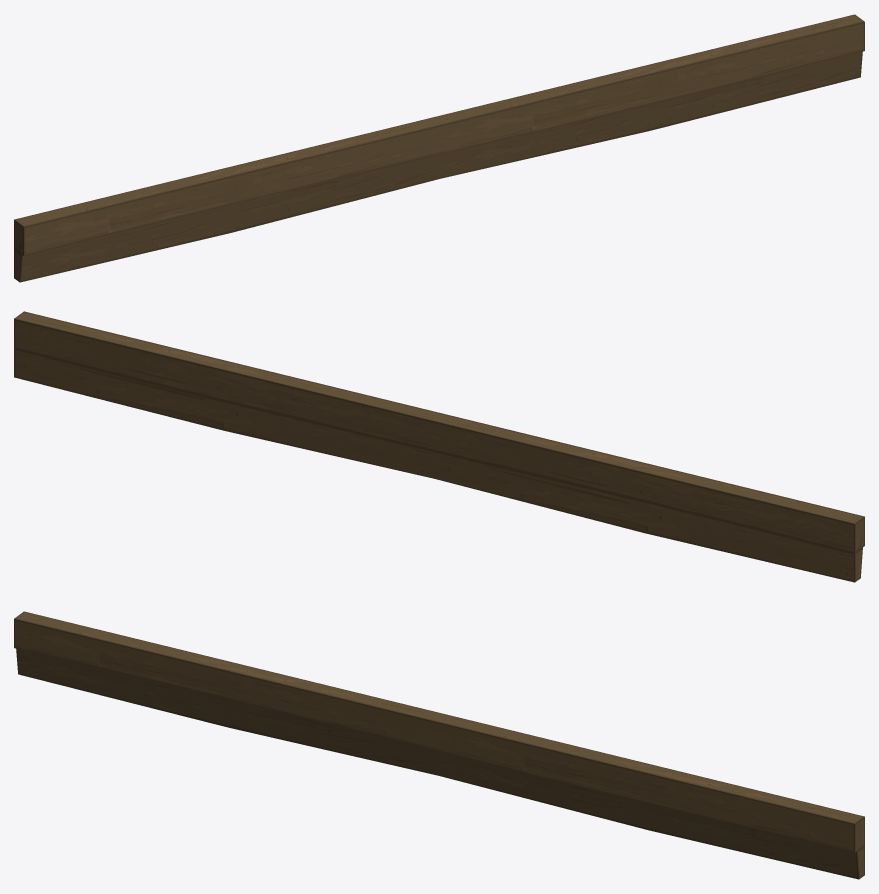
File: SM_plinth_05.glb
3 renders of one model, top to bottom at view 1: azimuth 30°, elevation 25°; view 2: azimuth 150°, elevation 25°; view 3: azimuth 330°, elevation 25°, orthographic.
Parts seen in each view (by area): view 1: SM_plinth_05; view 2: SM_plinth_05; view 3: SM_plinth_05.
Boxes of the visible parts, bbox=[...] form: SM_plinth_05: bbox=[14, 14, 864, 282]; SM_plinth_05: bbox=[14, 311, 864, 582]; SM_plinth_05: bbox=[14, 611, 864, 879].
Bounding box in the file's own units: 6 × 0.4143 × 0.1245.
1 material, 1 textured.
